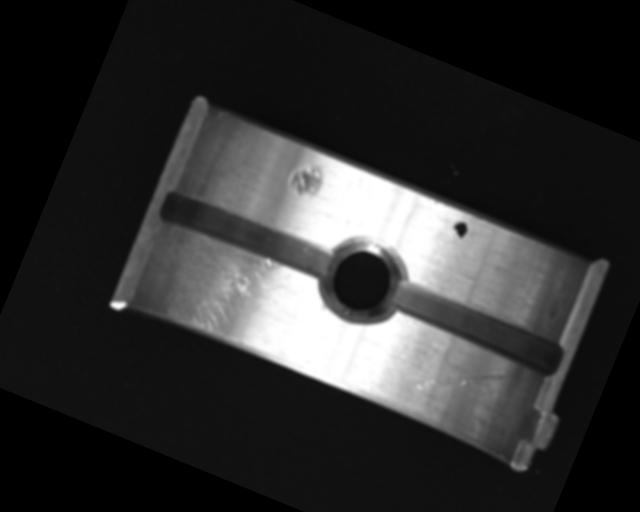blot: (446, 217, 470, 245)
bruise: (286, 155, 329, 203)
gap: (154, 183, 341, 290), (389, 278, 567, 378)
hole: (312, 226, 417, 335)
nick: (413, 344, 509, 421)
scratch: (138, 219, 325, 368)
